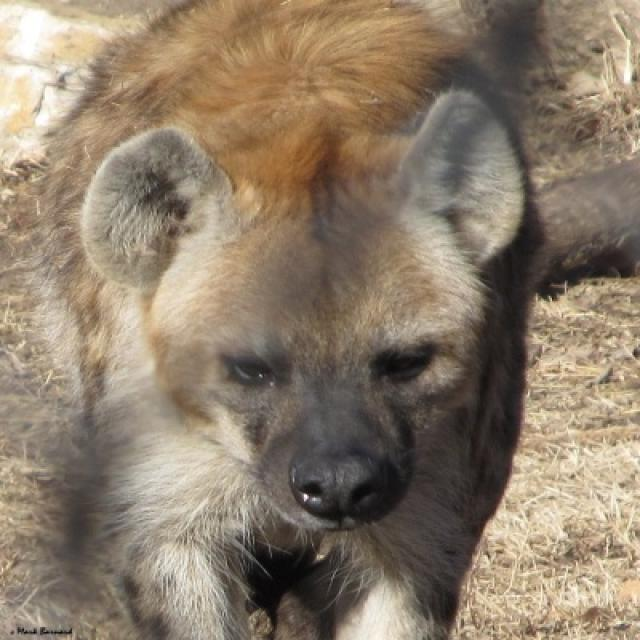hyena: (43, 0, 541, 638)
